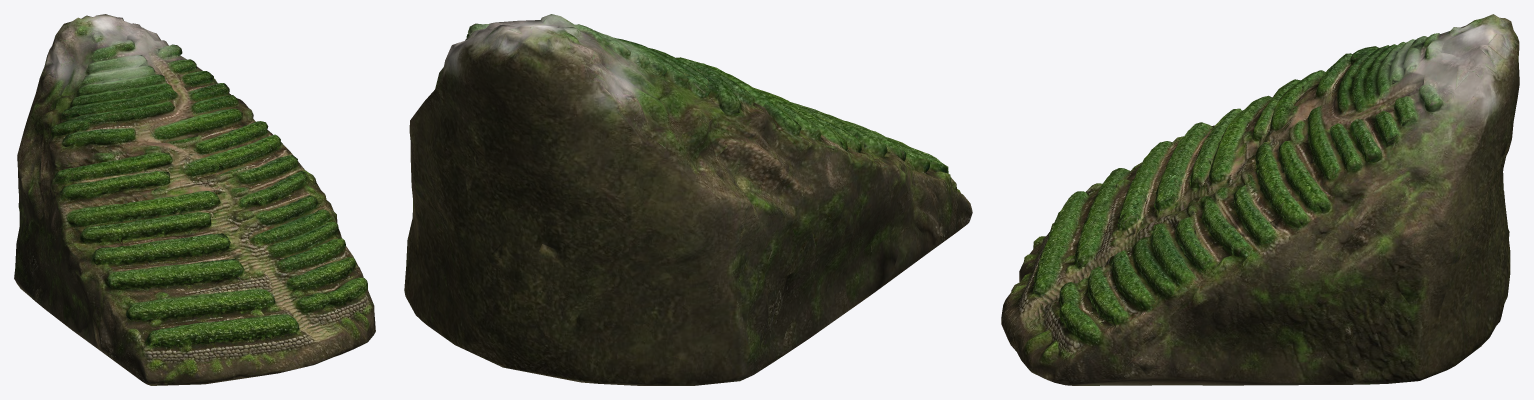
The model's file is city_trabzon_tea_slope.glb.
The picture shows the model from 3 angles, left to right: view 1: azimuth 30°, elevation 25°; view 2: azimuth 150°, elevation 25°; view 3: azimuth 270°, elevation 25°; orthographic projection. The views are drawn at different scales.
Parts seen in each view (by area): view 1: Mesh1.0; view 2: Mesh1.0; view 3: Mesh1.0.
Part boxes in pixels (x1=…): Mesh1.0: x1=14, y1=14, x2=375, y2=385; Mesh1.0: x1=404, y1=14, x2=972, y2=385; Mesh1.0: x1=1001, y1=14, x2=1519, y2=385.
Bounding box in the file's own units: 15.74 × 13 × 21.16.
Materials: 1 (1 with a texture image).
